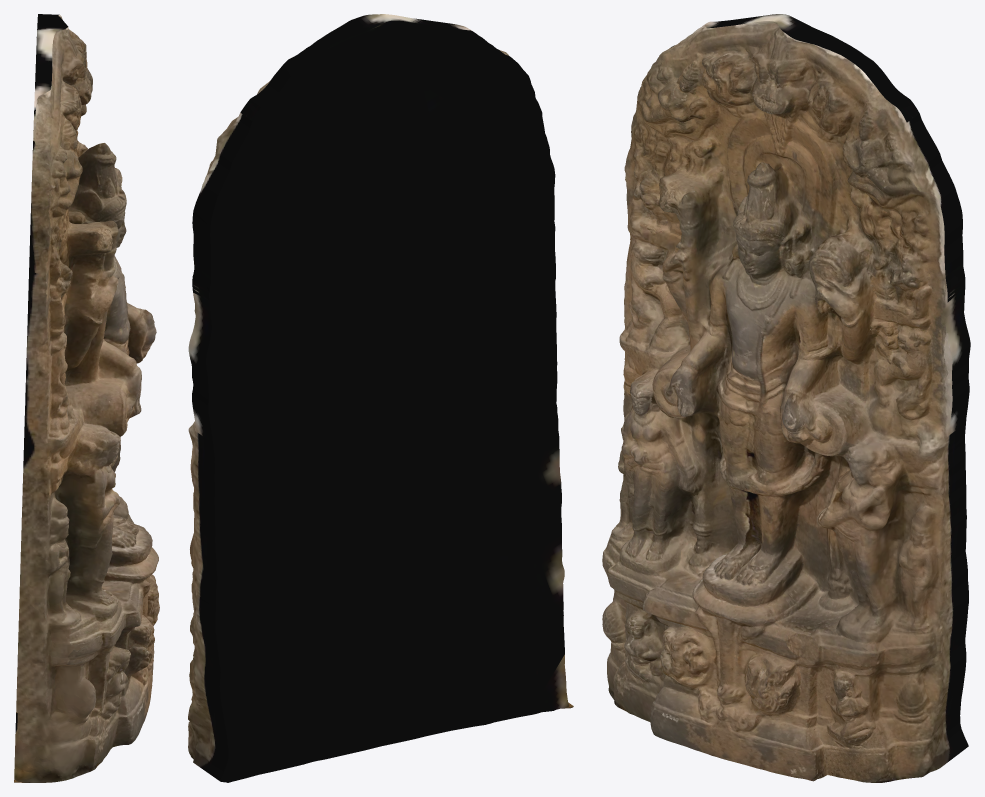
File: vishnu-pala-hi.glb
3 renders of one model, left to right at view 1: azimuth 30°, elevation 25°; view 2: azimuth 150°, elevation 25°; view 3: azimuth 270°, elevation 25°, orthographic. The views are drawn at different scales.
Parts seen in each view (by area): view 1: mainMeshNode; view 2: mainMeshNode; view 3: mainMeshNode.
Boxes of the visible parts, x1=… form: mainMeshNode: x1=14, y1=14, x2=159, y2=782; mainMeshNode: x1=188, y1=14, x2=573, y2=782; mainMeshNode: x1=602, y1=14, x2=970, y2=782.
Bounding box in the file's own units: 1.87 × 5.2 × 2.46.
Materials: 1 (1 with a texture image).
